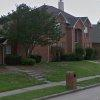Chimney: (55, 1, 69, 13)
